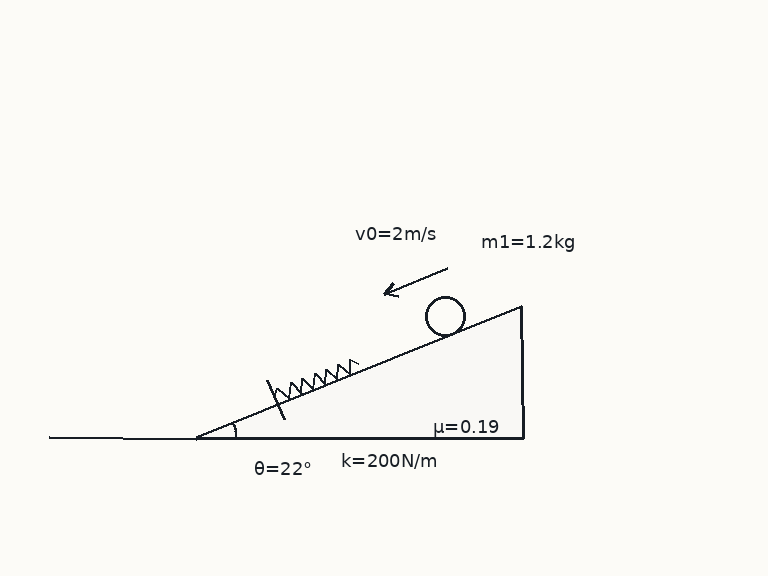ball: (423, 294, 467, 338)
ramp: (194, 305, 523, 440)
spring: (272, 357, 361, 400)
